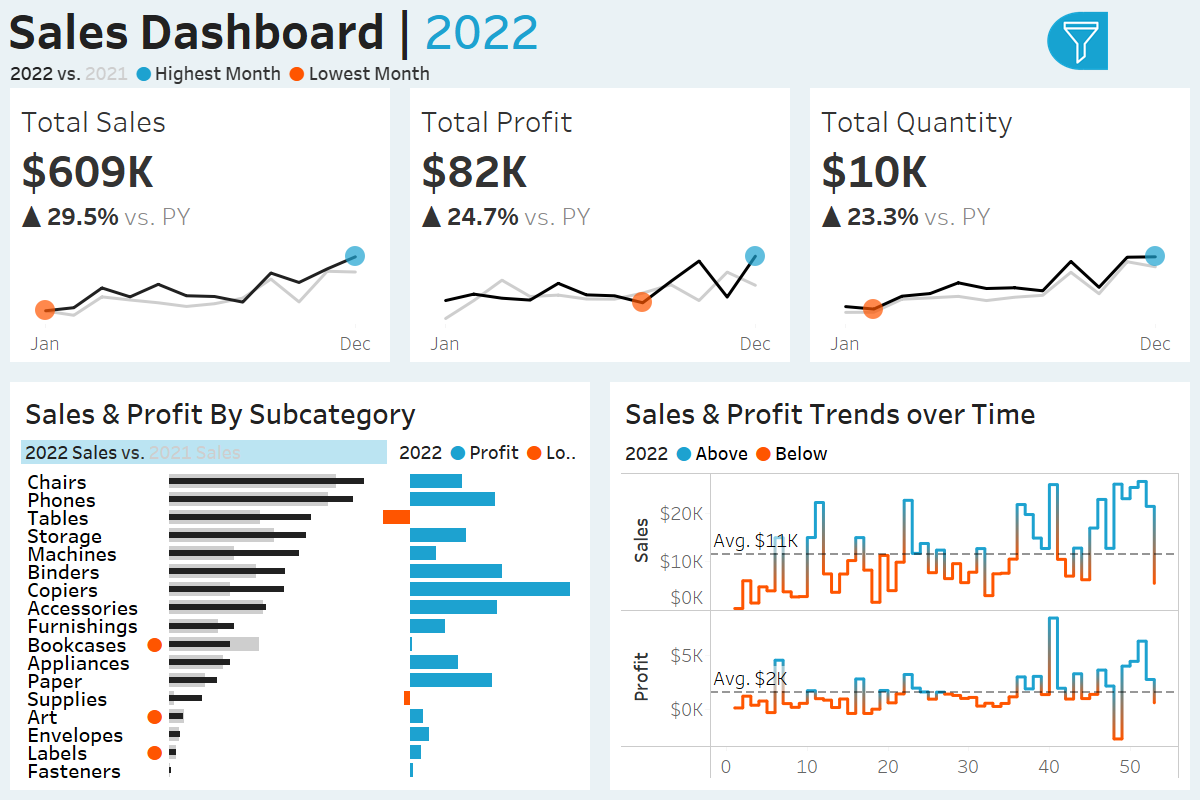

What the dashboard file says about the page in this screenshot:
{"tool":"tableau","page":{"name":"Sales Dashboard","canvas":[1200,800],"ordinal":0},"visuals":[{"type":"text","box":[0,0,1200,59]},{"type":"blank","box":[952,10,237,86]},{"type":"worksheet","title":"LEGENDS","mark":"Automatic","box":[0,59,1200,29]},{"type":"worksheet","title":"SALES","mark":"Automatic","rows":["Calculation_721701895347843083"],"cols":["Order Date"],"box":[0,88,400,284]},{"type":"worksheet","title":"PROFIT","mark":"Automatic","rows":["Min/Max Sales (copy)_237846410425847814"],"cols":["Order Date"],"box":[400,88,400,284]},{"type":"worksheet","title":"QUANTITY","mark":"Automatic","rows":["Min/Max Sales (copy) (copy)_237846410425856007"],"cols":["Order Date"],"box":[800,88,400,284]},{"type":"text","box":[952,96,237,47]},{"type":"parameter","param":"[Parameters].[Parameter 1]","box":[952,143,237,60]},{"type":"text","box":[952,203,237,39]},{"type":"filter","title":"SALES","param":"[federated.1kpxa041aiai2y1cl4pui1t4eju9].[none:Category:nk]","box":[952,242,237,70]},{"type":"filter","title":"SALES","param":"[federated.1kpxa041aiai2y1cl4pui1t4eju9].[none:Sub-Category:nk]","box":[952,312,237,70]},{"type":"blank","box":[952,382,237,60]},{"type":"text","box":[17,389,566,47]},{"type":"text","box":[617,389,566,47]},{"type":"filter","title":"SALES","param":"[federated.1kpxa041aiai2y1cl4pui1t4eju9].[none:Region:nk]","box":[952,426,237,57]},{"type":"worksheet","title":"Legend Subcategory","mark":"Automatic","box":[17,436,374,32]},{"type":"text","box":[391,436,192,32]},{"type":"text","box":[617,436,566,33]},{"type":"text","box":[952,442,237,39]},{"type":"worksheet","title":"Subcategory Comparison","mark":"Bar","rows":["Sub-Category","Calculation_2435040078806671369"],"cols":["CY Sales (copy)_721701895335804930","Calculation_721701895334993921","CY Sales (copy)_237846410424180736"],"box":[17,468,566,315]},{"type":"worksheet","title":"Weekly Trends","mark":"Automatic","rows":["Calculation_721701895334993921","CY Sales (copy)_237846410424180736"],"cols":["Order Date"],"box":[617,469,566,314]},{"type":"filter","title":"SALES","param":"[federated.1kpxa041aiai2y1cl4pui1t4eju9].[none:State:nk]","box":[952,481,237,70]},{"type":"filter","title":"SALES","param":"[federated.1kpxa041aiai2y1cl4pui1t4eju9].[none:City:nk]","box":[952,551,237,70]}]}

Visuals, with their boxes in screenshot pixels (x1, y1, x2, y2), scaled from the page's 1200x800 canvas onto the 1200x800 screenshot:
text: select_region(0, 0, 1199, 59)
blank: select_region(952, 10, 1189, 96)
"LEGENDS" worksheet: select_region(0, 59, 1199, 88)
"SALES" worksheet: select_region(0, 88, 400, 372)
"PROFIT" worksheet: select_region(400, 88, 800, 372)
"QUANTITY" worksheet: select_region(800, 88, 1199, 372)
text: select_region(952, 96, 1189, 143)
parameter: select_region(952, 143, 1189, 203)
text: select_region(952, 203, 1189, 242)
"SALES" filter: select_region(952, 242, 1189, 312)
"SALES" filter: select_region(952, 312, 1189, 382)
blank: select_region(952, 382, 1189, 442)
text: select_region(17, 389, 583, 436)
text: select_region(617, 389, 1183, 436)
"SALES" filter: select_region(952, 426, 1189, 483)
"Legend Subcategory" worksheet: select_region(17, 436, 391, 468)
text: select_region(391, 436, 583, 468)
text: select_region(617, 436, 1183, 469)
text: select_region(952, 442, 1189, 481)
"Subcategory Comparison" worksheet (Bar marks): select_region(17, 468, 583, 783)
"Weekly Trends" worksheet: select_region(617, 469, 1183, 783)
"SALES" filter: select_region(952, 481, 1189, 551)
"SALES" filter: select_region(952, 551, 1189, 621)
